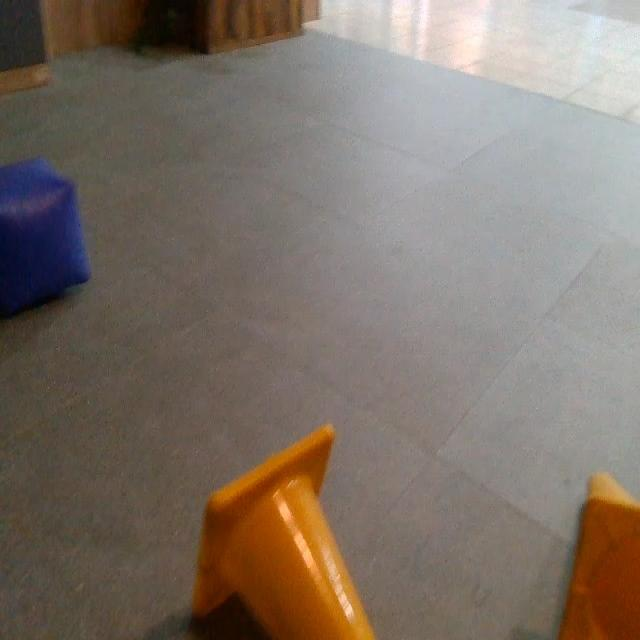cone: (196, 424, 384, 640), (554, 472, 640, 640)
cube: (0, 156, 84, 327)
